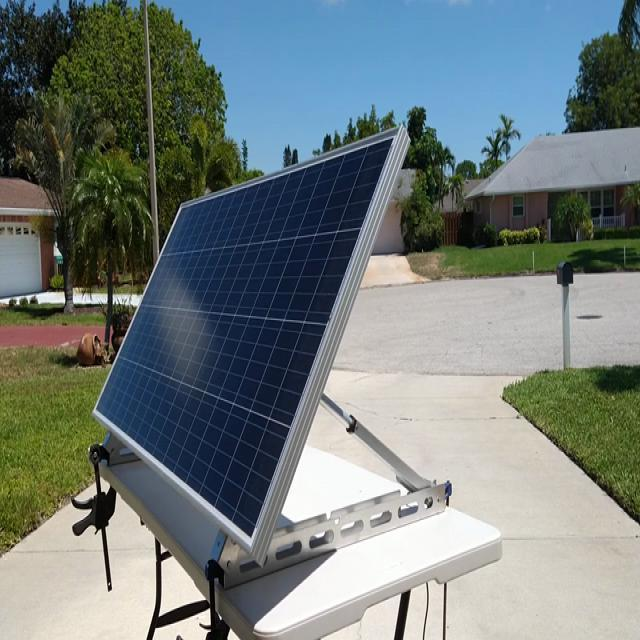Normal Solar Panel: (94, 127, 403, 550)
